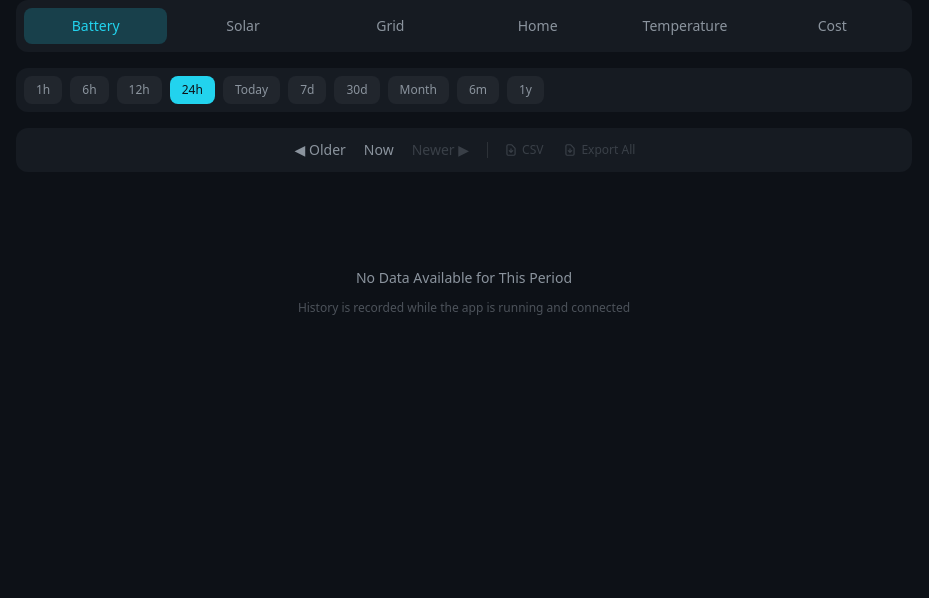
it: <HistoryPage/> — period totals (issue #237) › shows import, export and net money on the Cost tab
Click the button "Cost": (832, 26) [761, 8, 904, 44]
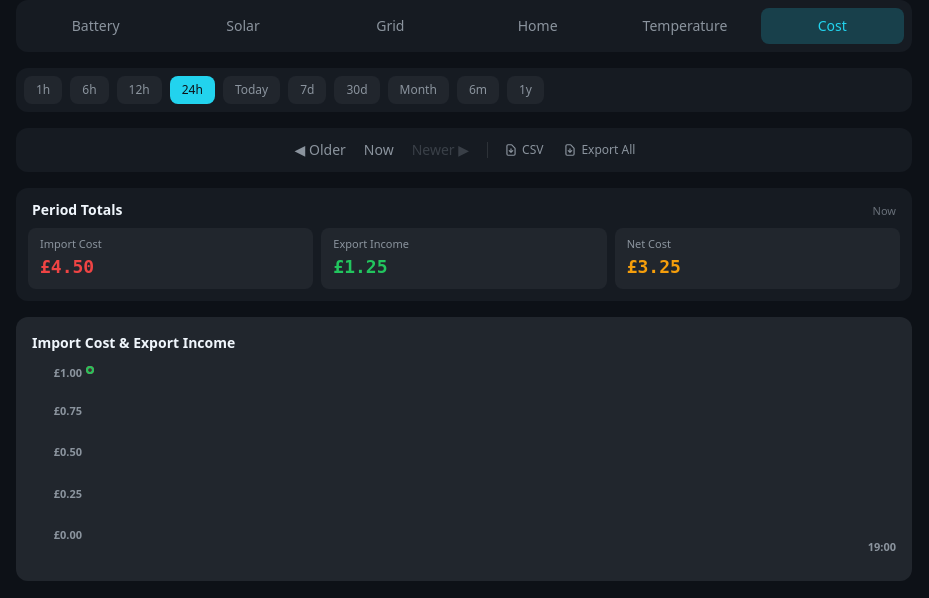
Expected: the text "£4.50" is shown, [40, 256, 94, 276]
Expected: the text "£1.25" is shown, [333, 256, 388, 276]
Expected: the text "£3.25" is shown, [627, 256, 681, 276]
